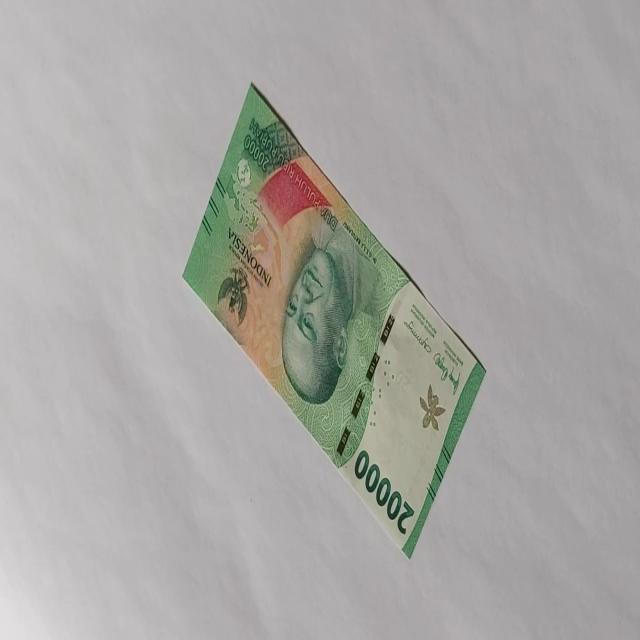dua puluh ribu rupiah: (182, 80, 486, 559), (353, 447, 415, 536)
